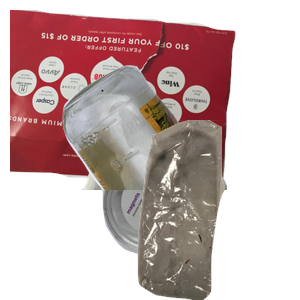glass: (60, 63, 300, 243)
paper: (10, 10, 238, 190)
plastic: (100, 152, 293, 300)
trash: (114, 120, 300, 300)
